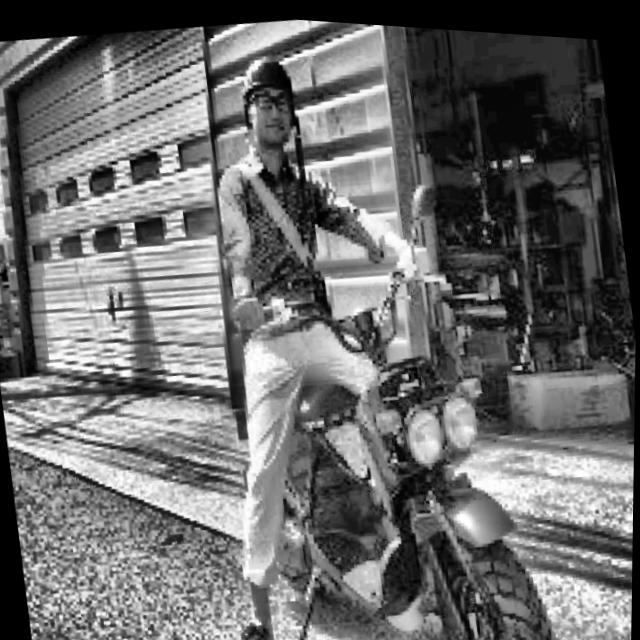motorcycle: (136, 128, 570, 640)
